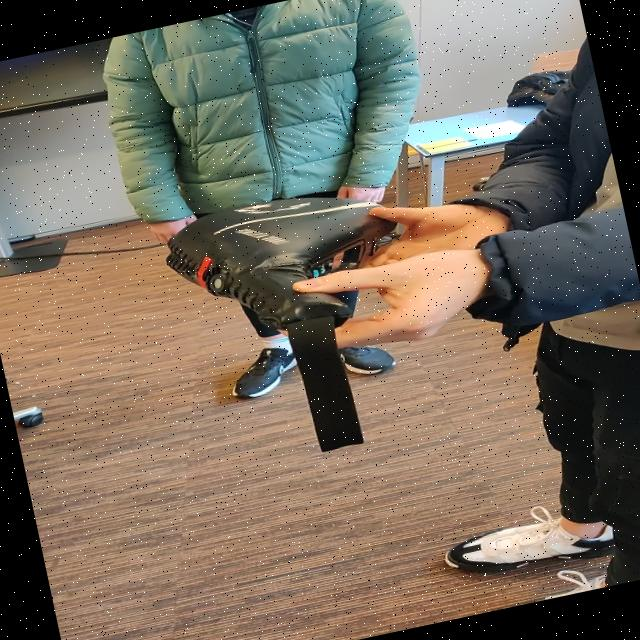paddle: (164, 198, 397, 328)
